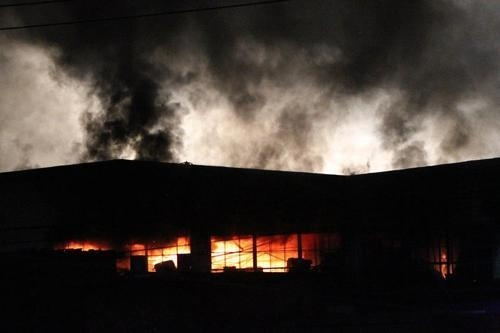fire: (211, 233, 292, 273), (135, 236, 190, 267), (436, 249, 452, 279)
